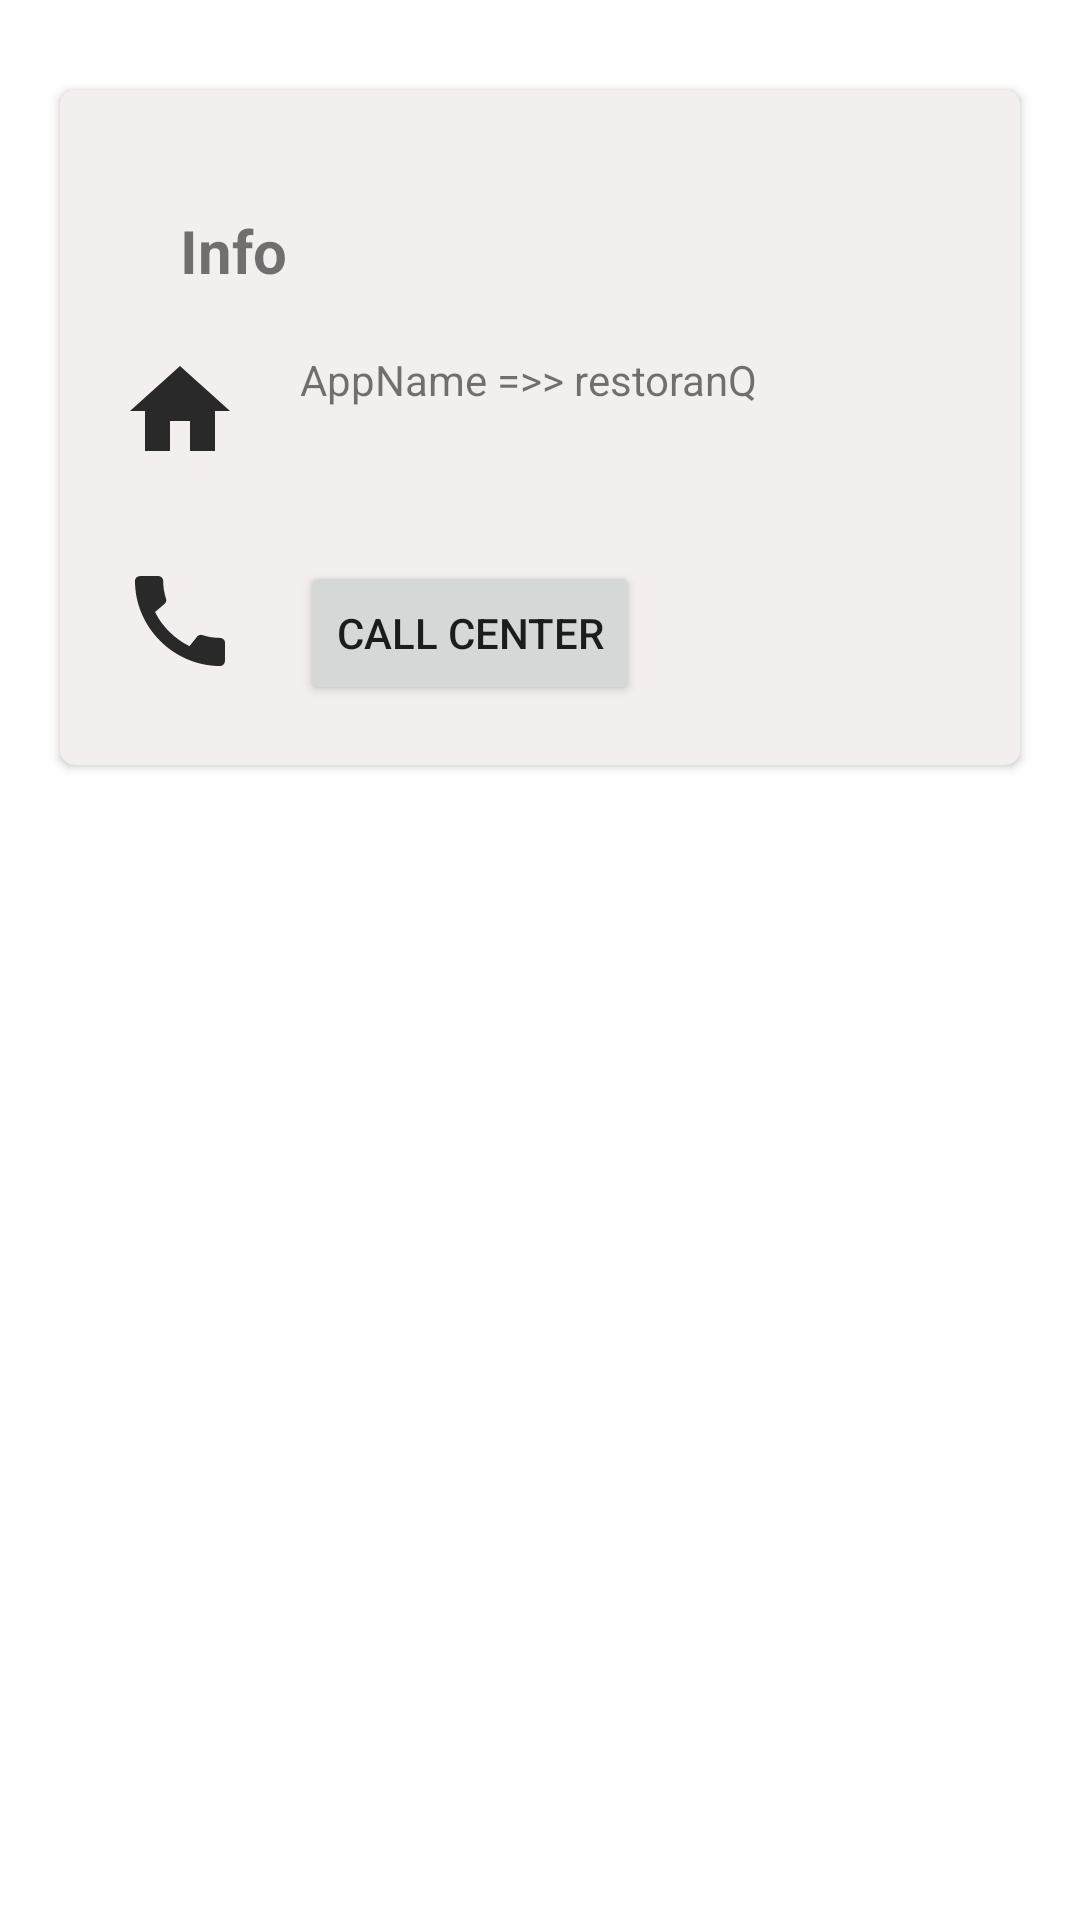

Screen size 1080 x 1920. Icon name, then its box in pixels as region(x1, y1, x2, y2):
homee: region(130, 366, 230, 451)
